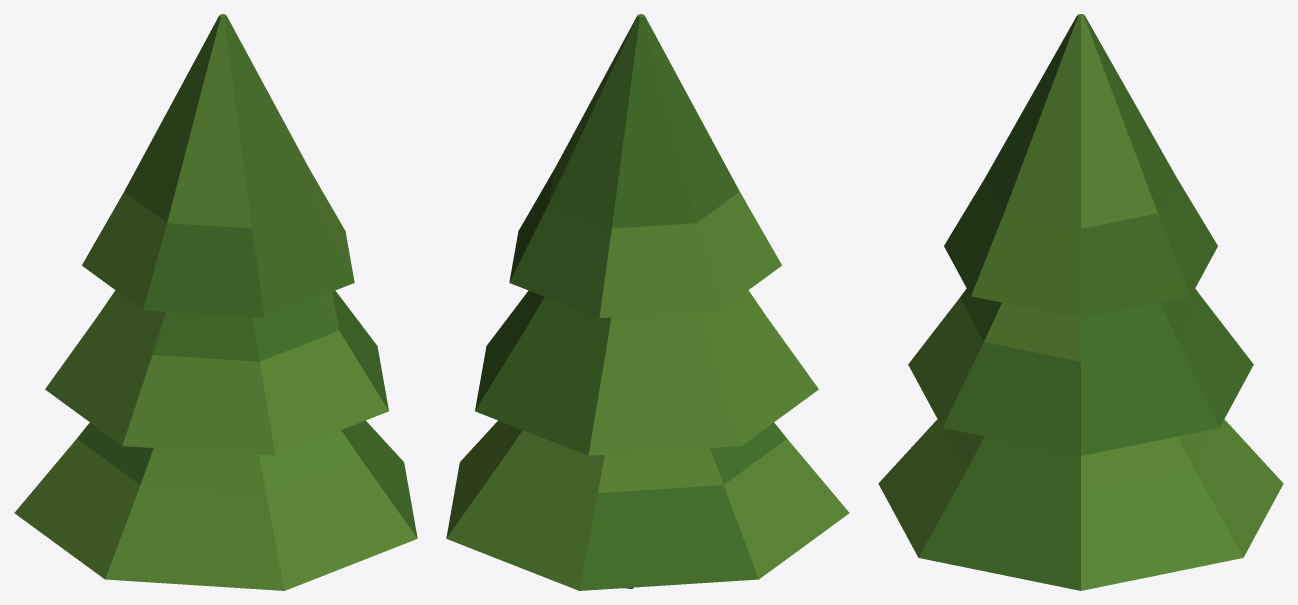
Rendered from kit_pine.glb.
The picture shows the model from 3 angles, left to right: view 1: azimuth 30°, elevation 25°; view 2: azimuth 150°, elevation 25°; view 3: azimuth 270°, elevation 25°; orthographic projection.
Visible parts, largest first — view 1: Angular pine crown, Angular pine crown.002, Angular pine crown.001; view 2: Angular pine crown, Angular pine crown.002, Angular pine crown.001; view 3: Angular pine crown, Angular pine crown.002, Angular pine crown.001.
Boxes of the visible parts, x1,y1,x2,y2 form: Angular pine crown: (14, 420, 417, 590); Angular pine crown.002: (82, 14, 354, 318); Angular pine crown.001: (45, 290, 388, 455); Angular pine crown: (446, 420, 849, 590); Angular pine crown.002: (509, 14, 781, 318); Angular pine crown.001: (475, 290, 818, 455); Angular pine crown: (878, 419, 1283, 590); Angular pine crown.002: (944, 14, 1217, 318); Angular pine crown.001: (908, 288, 1253, 455).
Bounding box in the file's own units: 1.55 × 2.4 × 1.59.
5 materials, 2 textured.
